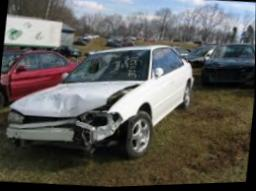Bumper: (0, 119, 122, 164)
Light: (75, 109, 123, 134)
